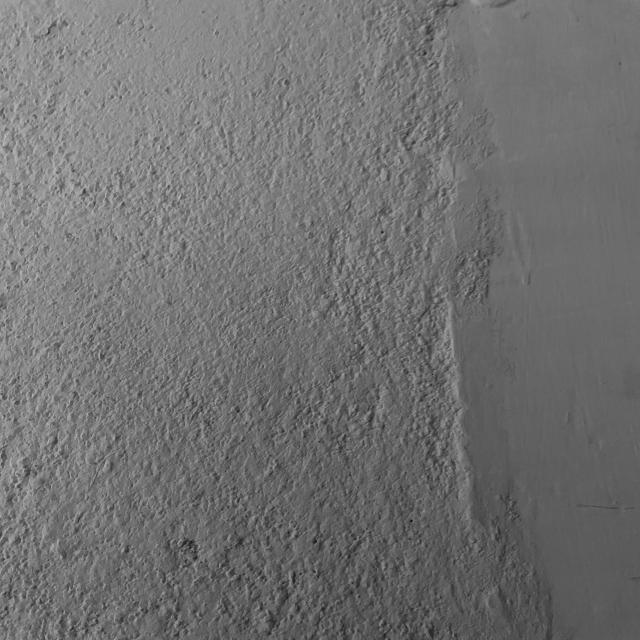rough and patchy surface: (0, 0, 559, 634)
